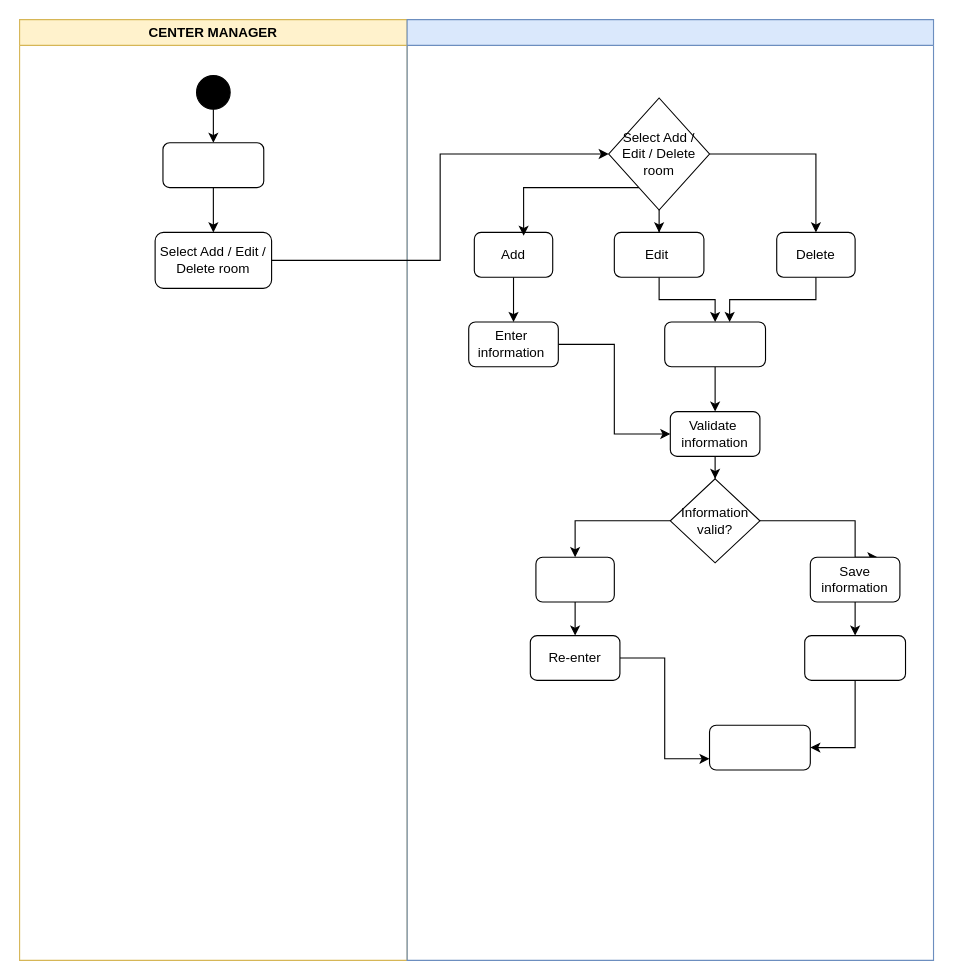
The diagram is 953 pixels wide and 980 high, and some of its shapes have lost their labels. Here are the shapes that lost their labels. From the top down, the box of each, then its label:
(162, 142, 264, 188): Select manage rooms
(664, 321, 766, 367): Select room
(406, 18, 934, 960): SYSTEM
(535, 556, 614, 602): Show error
(804, 634, 906, 680): Show success message
(708, 724, 810, 770): End
